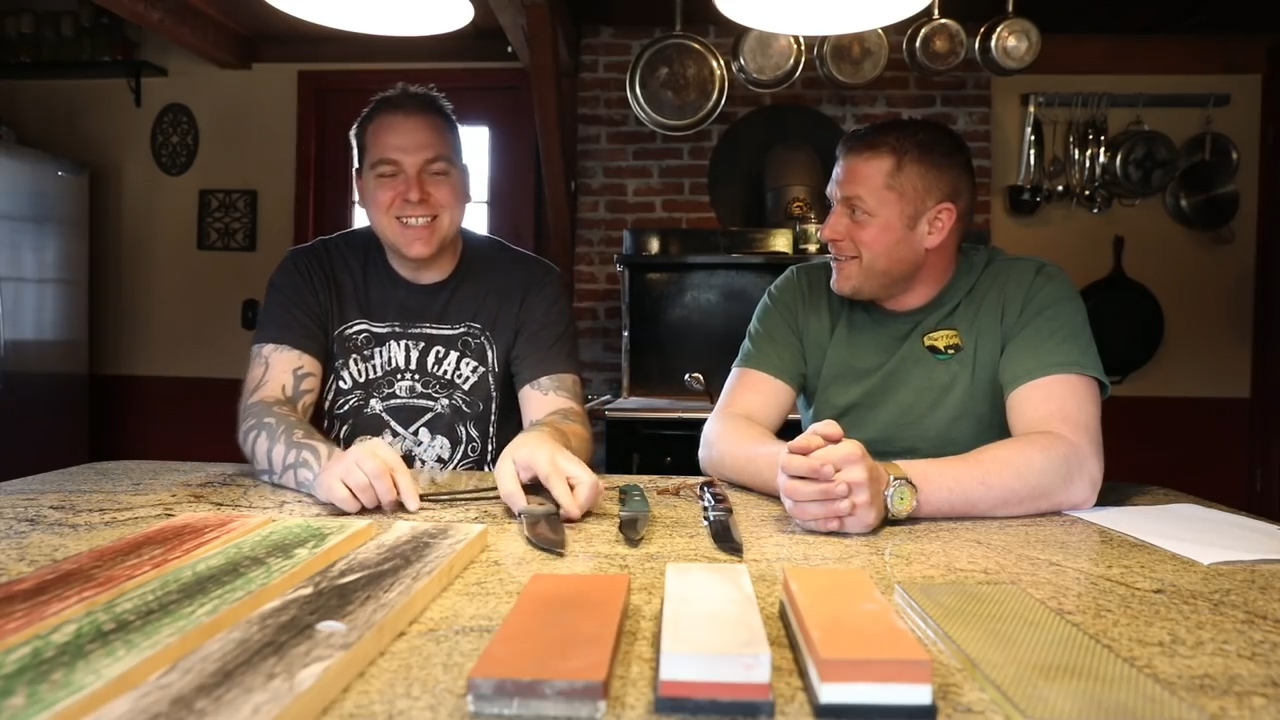knife: (490, 466, 603, 566)
